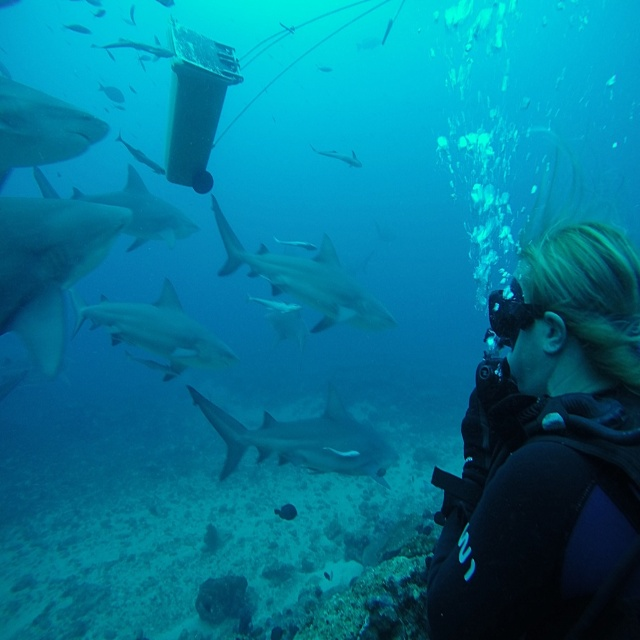Shark: (0, 190, 134, 375), (214, 192, 396, 325), (191, 394, 390, 489), (70, 274, 241, 364), (0, 64, 109, 180)
